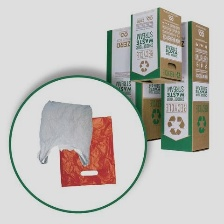plastic_bag: (52, 112, 121, 188), (31, 99, 95, 169)
